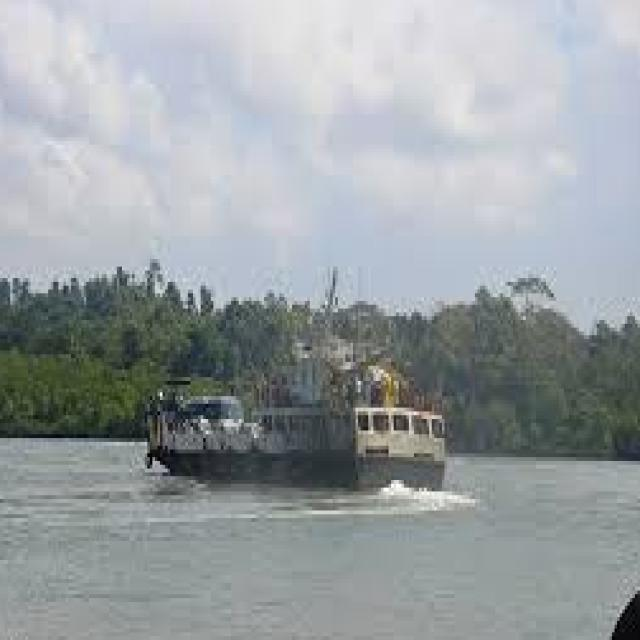fishing boat: (142, 317, 452, 499)
